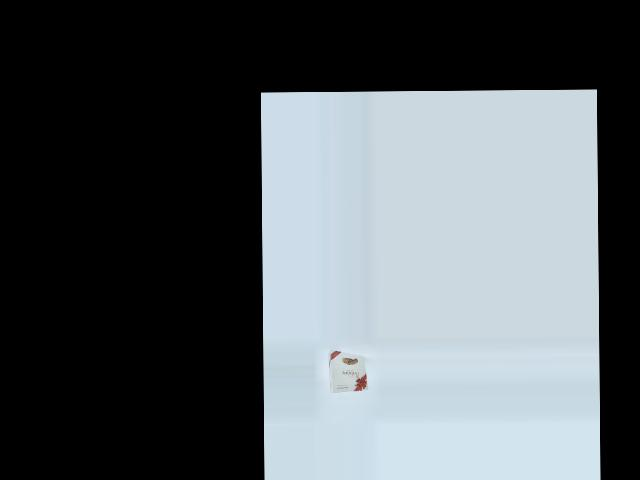chocolate: (320, 347, 369, 392)
